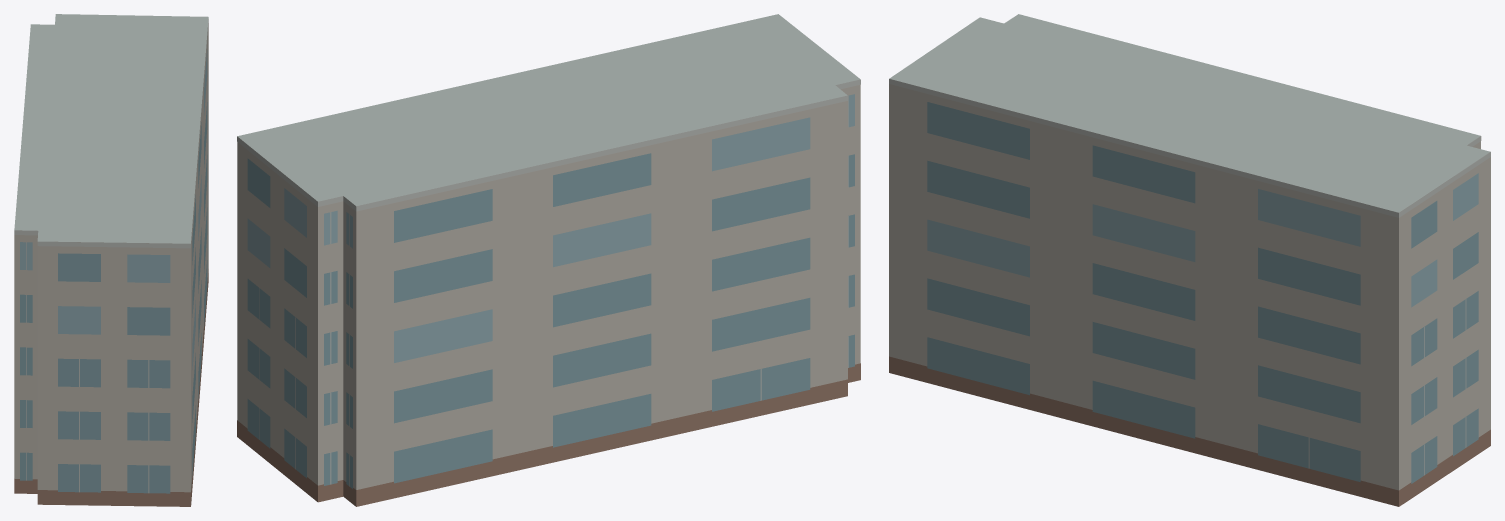
Rendered from survey-upis-32517637.glb.
3 renders of one model, left to right at view 1: azimuth 30°, elevation 25°; view 2: azimuth 150°, elevation 25°; view 3: azimuth 270°, elevation 25°, orthographic. The views are drawn at different scales.
Parts seen in each view (by area): view 1: survey-upis-32517637.tmp; view 2: survey-upis-32517637.tmp; view 3: survey-upis-32517637.tmp.
Part boxes in pixels (bbox=[...]): survey-upis-32517637.tmp: bbox=[14, 14, 208, 506]; survey-upis-32517637.tmp: bbox=[237, 14, 860, 506]; survey-upis-32517637.tmp: bbox=[889, 14, 1490, 506].
Size of the model in its own units: 20.07 by 13.84 by 25.67.
